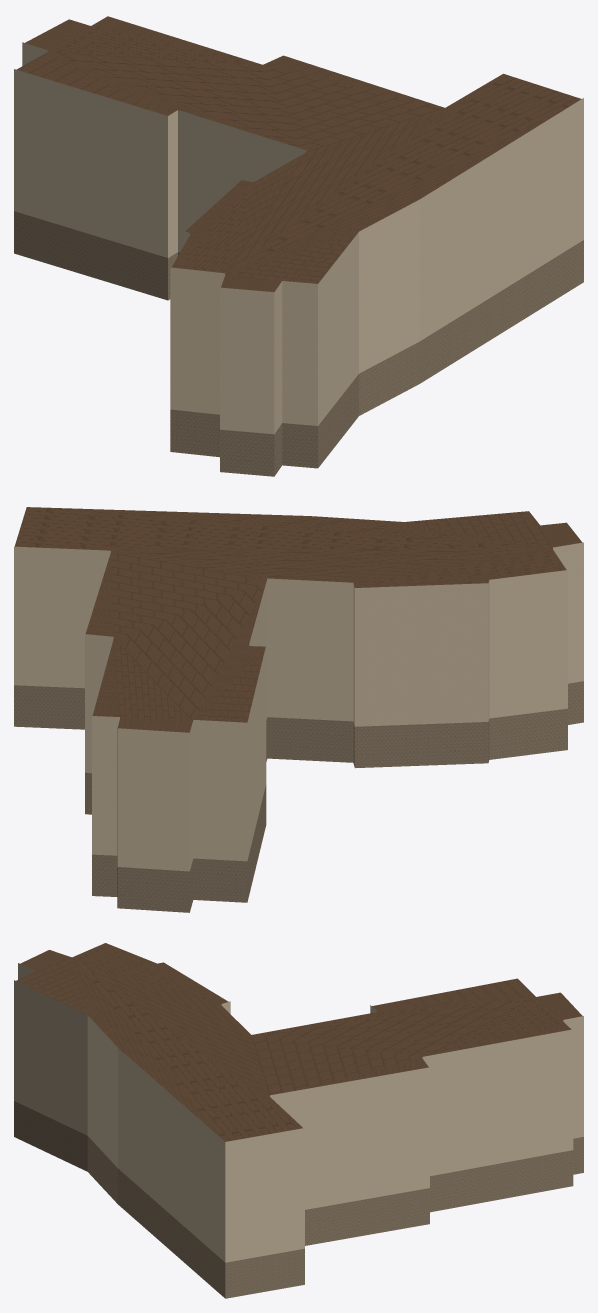
Rendered from bld_c9_9_488.gltf.
3 views of the same model, one above another, from view 1: azimuth 30°, elevation 25°; view 2: azimuth 150°, elevation 25°; view 3: azimuth 270°, elevation 25° (orthographic). The views are drawn at different scales.
Parts seen in each view (by area): view 1: bld_c9_9_488; view 2: bld_c9_9_488; view 3: bld_c9_9_488.
Boxes of the visible parts, x1,y1,x2,y2 form: bld_c9_9_488: (14,16,583,476); bld_c9_9_488: (14,507,583,912); bld_c9_9_488: (14,943,583,1298).
Size of the model in its own units: 60.88 by 22.18 by 73.05.
Materials: 4 (4 with a texture image).
